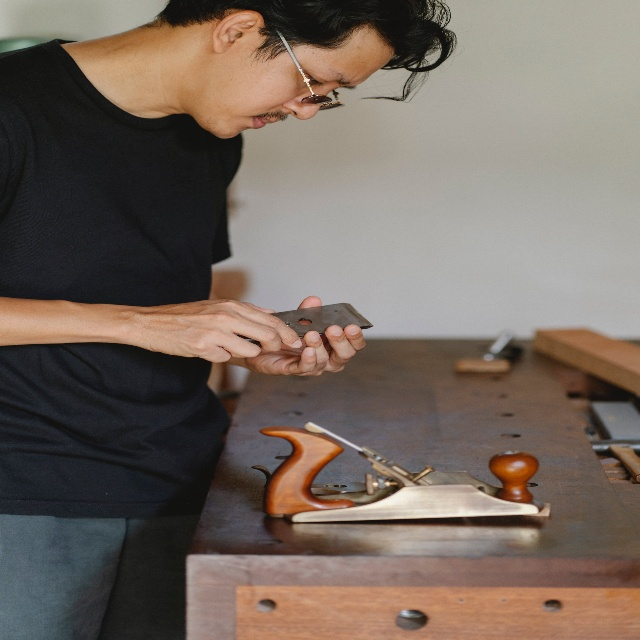Gafas: (276, 27, 345, 113)
Sin_guantes: (136, 298, 303, 364), (245, 295, 366, 377)
